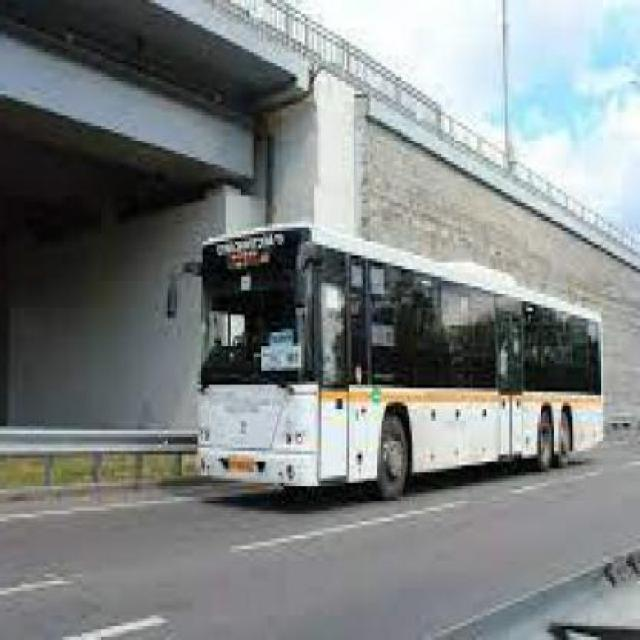bus: (158, 222, 606, 502)
